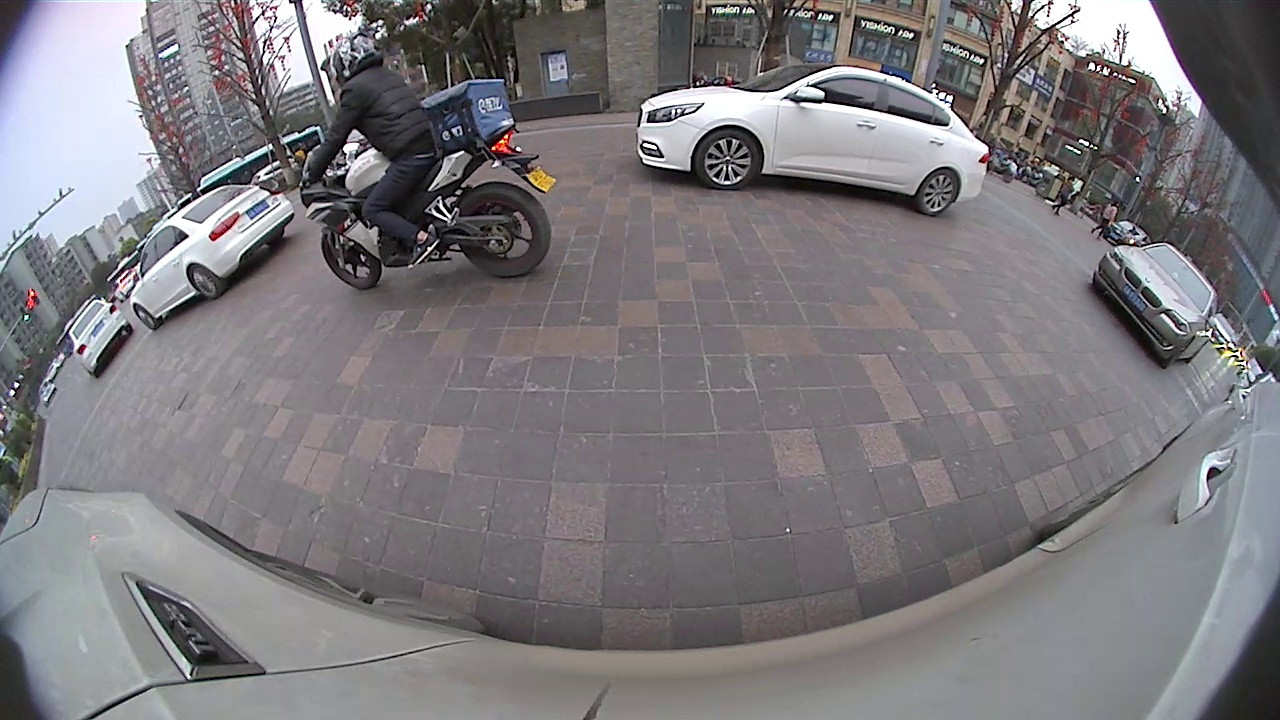car: (632, 61, 996, 220), (127, 181, 297, 332), (1090, 240, 1218, 369), (66, 295, 137, 380)
front: (689, 127, 766, 194), (316, 226, 385, 295)
rear: (447, 177, 553, 282), (914, 166, 963, 220), (183, 262, 226, 303)
rider: (297, 31, 557, 292)
